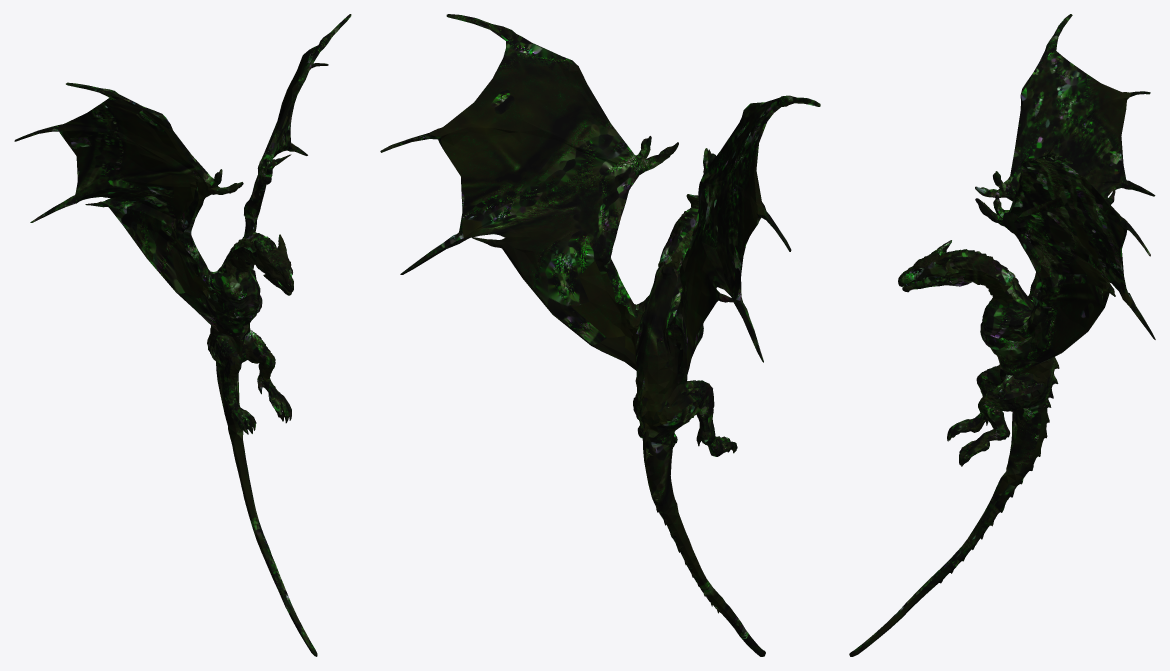
Rendered from frame_0017_uv.obj.
The picture shows the model from 3 angles, left to right: view 1: azimuth 30°, elevation 25°; view 2: azimuth 150°, elevation 25°; view 3: azimuth 270°, elevation 25°; orthographic projection. The views are drawn at different scales.
Visible parts, largest first — view 1: pMesh1; view 2: pMesh1; view 3: pMesh1.
Boxes of the visible parts, <box> form: pMesh1: <box>14,14,351,656</box>; pMesh1: <box>380,14,820,656</box>; pMesh1: <box>849,14,1155,656</box>.
Size of the model in its own units: 8.64 by 14.02 by 6.86.
